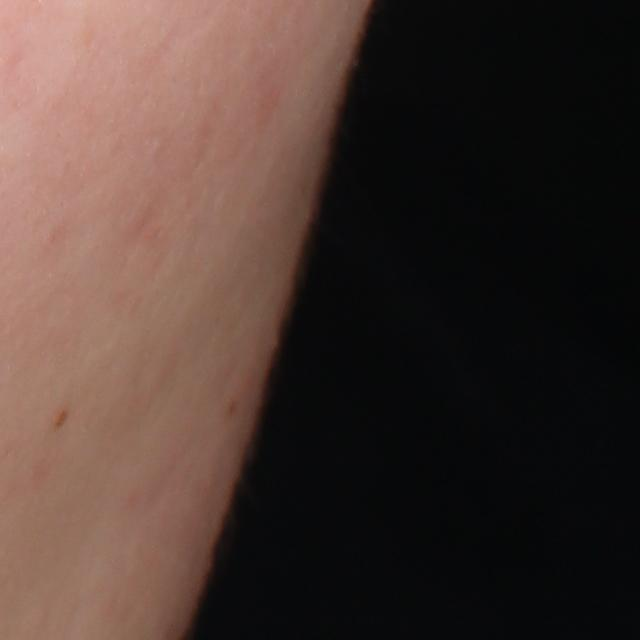nevus: (50, 402, 72, 427)
